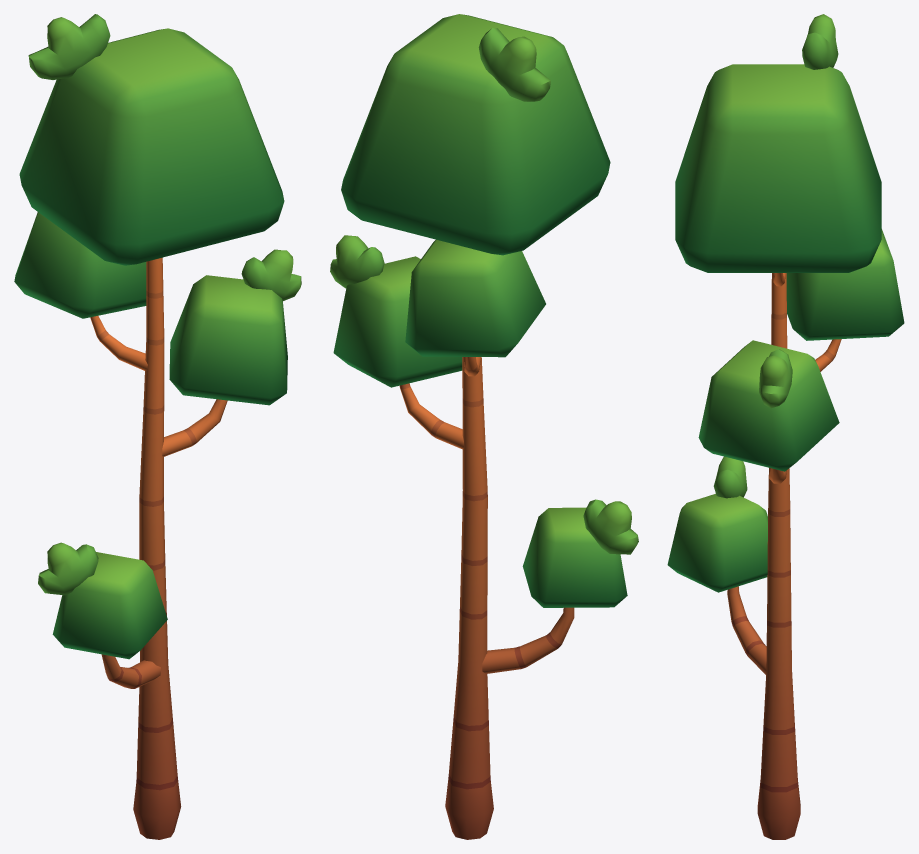
The model's file is Tree_6_C_Color1.gltf.
3 renders of one model, left to right at view 1: azimuth 30°, elevation 25°; view 2: azimuth 150°, elevation 25°; view 3: azimuth 270°, elevation 25°, orthographic. The views are drawn at different scales.
Visible parts, largest first — view 1: Tree_6_C_Color1; view 2: Tree_6_C_Color1; view 3: Tree_6_C_Color1.
Part boxes in pixels (left/top/right/bottom): Tree_6_C_Color1: left=14, top=14, right=301, bottom=839; Tree_6_C_Color1: left=330, top=14, right=638, bottom=839; Tree_6_C_Color1: left=667, top=14, right=904, bottom=839.
Size of the model in its own units: 3.02 by 8.42 by 2.3.
1 material, 1 textured.
